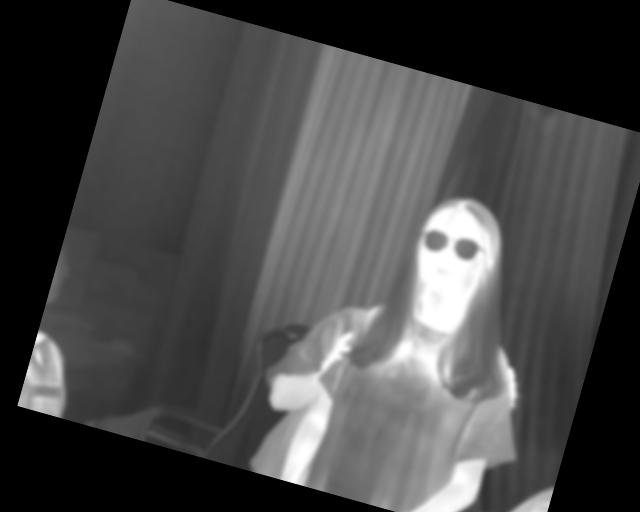face: (404, 186, 508, 310)
